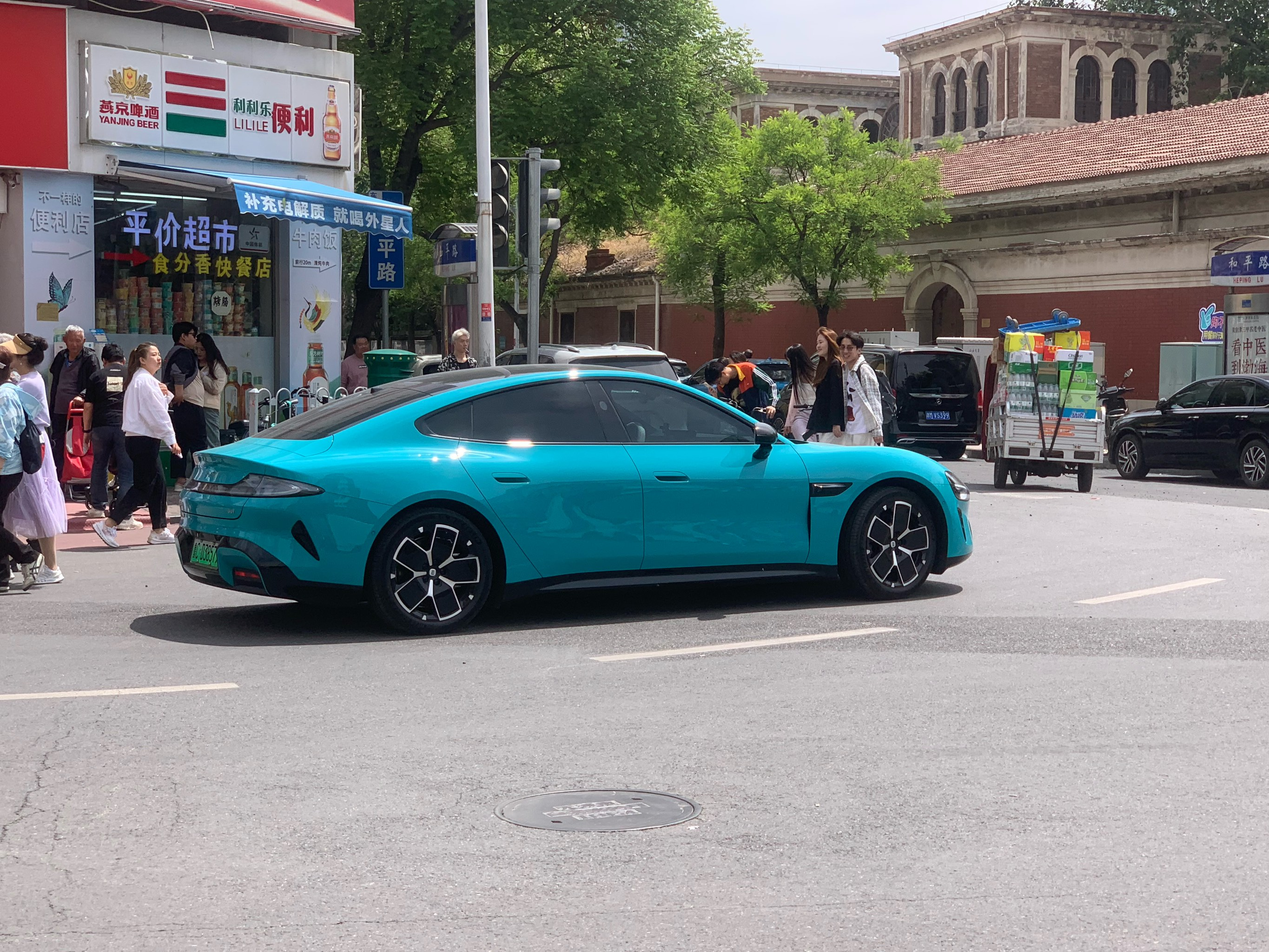su7: (172, 362, 975, 635)
